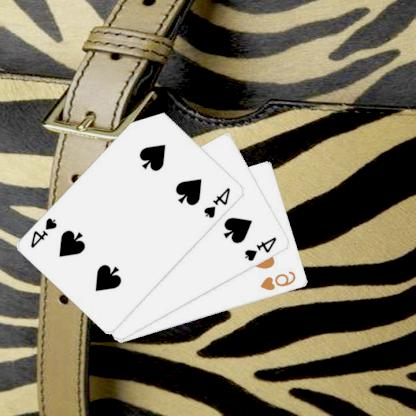4S: (30, 215, 61, 250), (203, 185, 234, 219), (244, 234, 280, 263)
6H: (260, 269, 300, 292)
